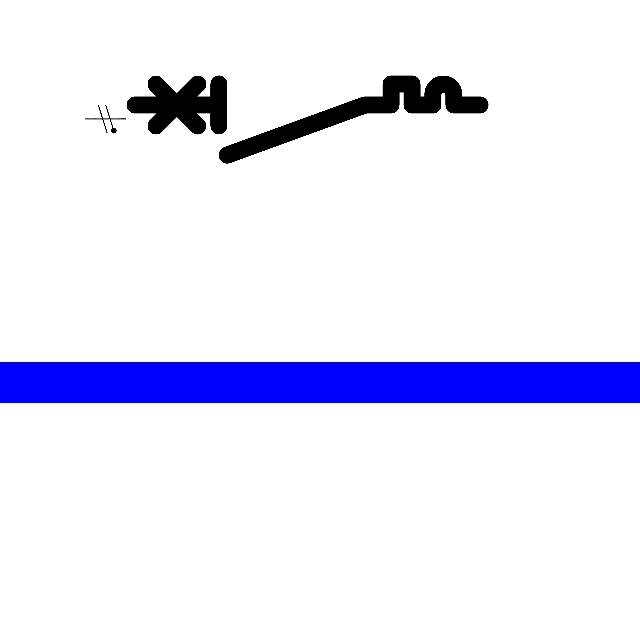interruptor_termomagnetico: (126, 75, 489, 163)
